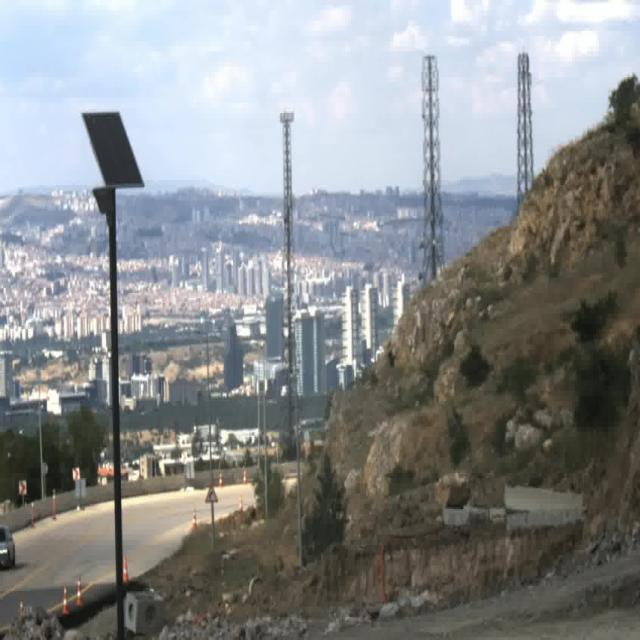Car: (0, 525, 14, 566)
